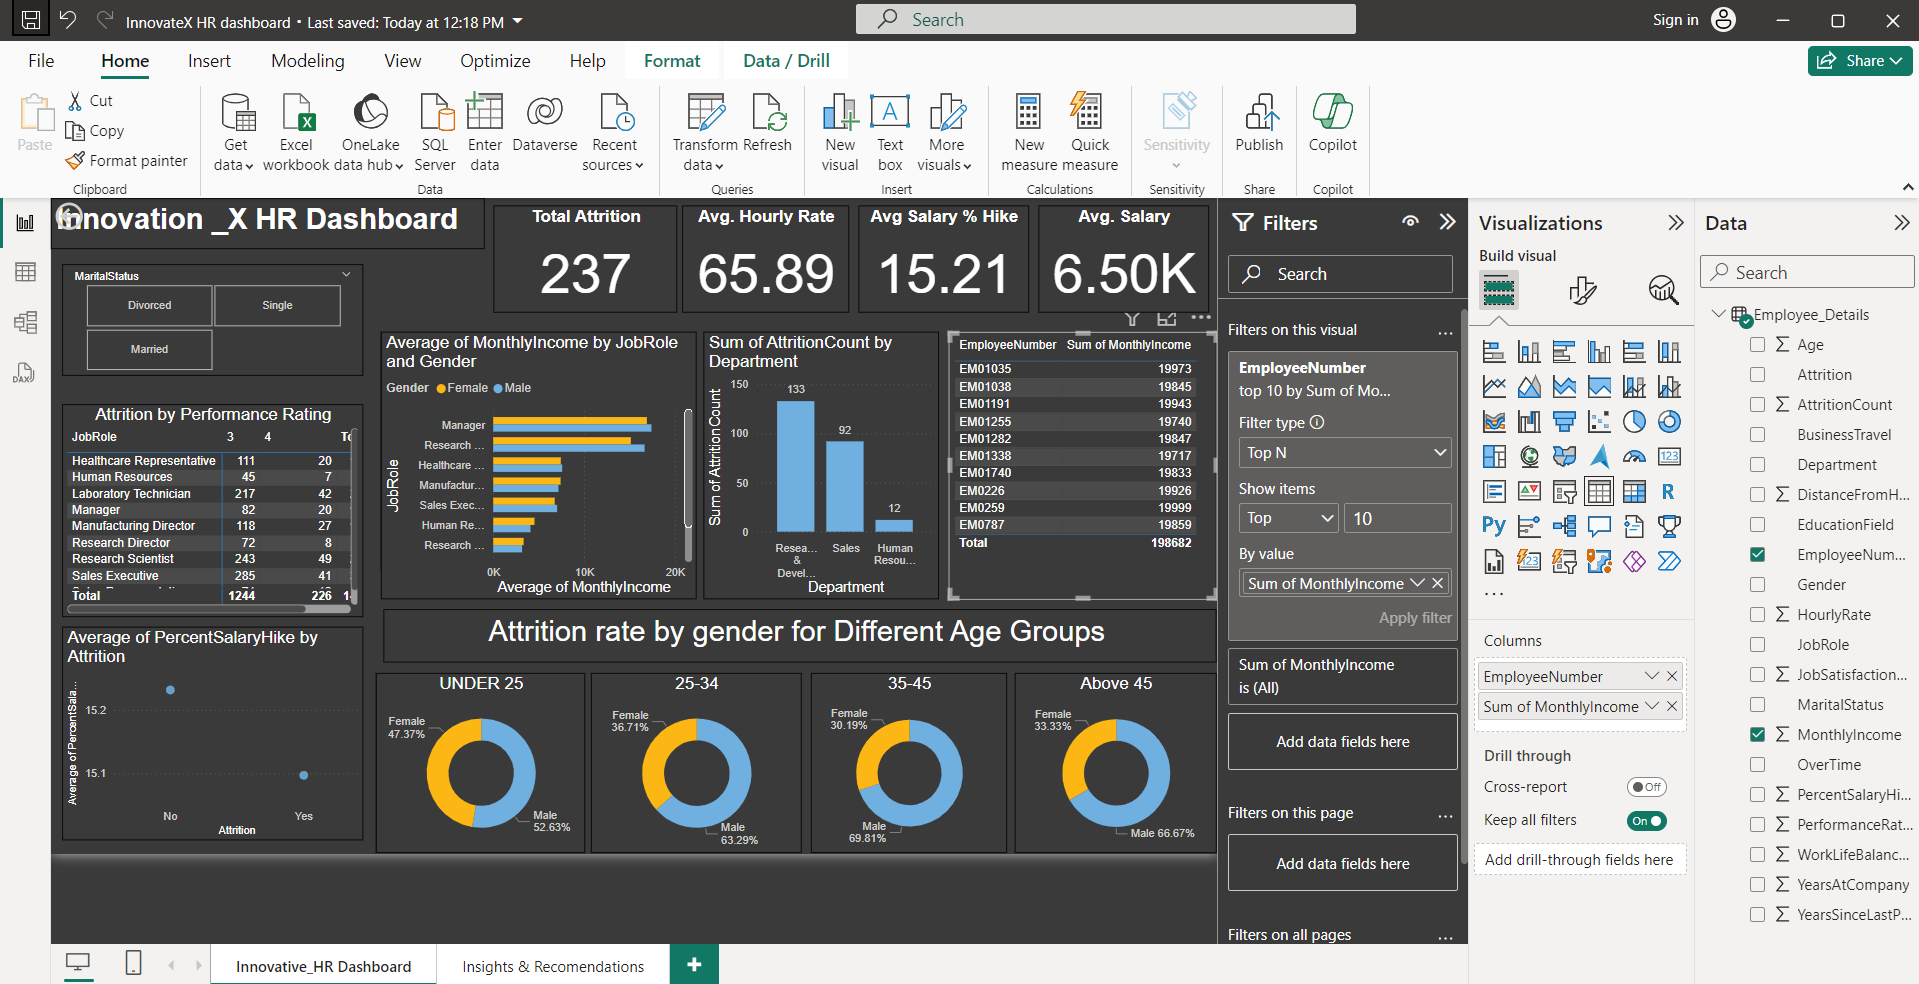

What the dashboard file says about the page in this screenshot:
{"tool":"powerbi","page":{"name":"Page 3","canvas":[1280,720],"ordinal":0},"visuals":[{"type":"textbox","box":[0,0,475.7,56.3],"z":0},{"type":"slicer","fields":{"Values":["Employee_Details.MaritalStatus"]},"box":[12.2,73,330.2,122.3],"z":1000},{"type":"pivotTable","title":"Attrition by Performance Rating","fields":{"Rows":["Employee_Details.JobRole"],"Columns":["Employee_Details.PerformanceRating"],"Values":["Employee_Details.EmployeeNumber"]},"box":[12.2,226.2,330.2,233.6],"z":2000},{"type":"scatterChart","fields":{"X":["Employee_Details.Attrition"],"Y":["Employee_Details.PercentSalaryHike"]},"box":[12,470,330,234],"z":3000},{"type":"actionButton","box":[0,0,100,40],"z":4000},{"type":"clusteredBarChart","fields":{"Category":["Employee_Details.JobRole"],"Series":["Employee_Details.Gender"],"Y":["Employee_Details.MonthlyIncome"]},"box":[362,146.7,346.1,293.5],"z":5000},{"type":"clusteredColumnChart","fields":{"Category":["Employee_Details.Department"],"Y":["Employee_Details.AttritionCount"]},"box":[716.6,146.7,258,293.5],"z":6000},{"type":"tableEx","fields":{"Values":["Employee_Details.EmployeeNumber","Employee_Details.MonthlyIncome"]},"box":[985.6,146.7,294.7,293.5],"z":7000},{"type":"textbox","box":[365.6,451.2,914.7,58.7],"z":8000},{"type":"donutChart","title":"UNDER 25","fields":{"Y":["Employee_Details.AttritionCount"],"Category":["Employee_Details.Gender"]},"box":[357.3,521.9,229.8,197.9],"z":9000},{"type":"donutChart","title":"25-34","fields":{"Y":["Employee_Details.AttritionCount"],"Category":["Employee_Details.Gender"]},"box":[592.3,521.9,231.1,197.9],"z":10000},{"type":"donutChart","title":"35-45","fields":{"Y":["Employee_Details.AttritionCount"],"Category":["Employee_Details.Gender"]},"box":[834,521.9,215.1,197.9],"z":11000},{"type":"donutChart","title":"Above 45","fields":{"Y":["Employee_Details.AttritionCount"],"Category":["Employee_Details.Gender"]},"box":[1058.5,521.9,221.8,197.9],"z":12000},{"type":"card","title":"Avg. Hourly Rate","fields":{"Values":["Employee_Details.HourlyRate"]},"box":[693.3,8.6,183.4,117.4],"z":13000},{"type":"card","title":"Total Attrition","fields":{"Values":["Employee_Details.AttritionCount"]},"box":[485.5,8.6,201.8,117.4],"z":14000},{"type":"card","title":"Avg Salary %  Hike ","fields":{"Values":["Employee_Details.PercentSalaryHike"]},"box":[886.6,8.6,187.1,117.4],"z":15000},{"type":"card","title":"Avg. Salary","fields":{"Values":["Employee_Details.MonthlyIncome"]},"box":[1084.7,8.6,187.1,117.4],"z":16000}]}

Visuals, with their boxes on the page's 1280x720 design canvas (x1, y1, x2, y2). These are canvas units, not pixel positions in the 1919x984 screenshot, which may show the page scaled, cropped or inside an application window:
textbox: pyautogui.locateOnScreen(0, 0, 476, 56)
slicer - Employee_Details.MaritalStatus: pyautogui.locateOnScreen(12, 73, 342, 195)
"Attrition by Performance Rating" pivotTable: pyautogui.locateOnScreen(12, 226, 342, 460)
scatterChart - Employee_Details.Attrition x Employee_Details.PercentSalaryHike: pyautogui.locateOnScreen(12, 470, 342, 704)
actionButton: pyautogui.locateOnScreen(0, 0, 100, 40)
clusteredBarChart - Employee_Details.JobRole x Employee_Details.Gender: pyautogui.locateOnScreen(362, 147, 708, 440)
clusteredColumnChart - Employee_Details.Department x Employee_Details.AttritionCount: pyautogui.locateOnScreen(717, 147, 975, 440)
tableEx - Employee_Details.EmployeeNumber x Employee_Details.MonthlyIncome: pyautogui.locateOnScreen(986, 147, 1280, 440)
textbox: pyautogui.locateOnScreen(366, 451, 1280, 510)
"UNDER 25" donutChart: pyautogui.locateOnScreen(357, 522, 587, 720)
"25-34" donutChart: pyautogui.locateOnScreen(592, 522, 823, 720)
"35-45" donutChart: pyautogui.locateOnScreen(834, 522, 1049, 720)
"Above 45" donutChart: pyautogui.locateOnScreen(1058, 522, 1280, 720)
"Avg. Hourly Rate" card: pyautogui.locateOnScreen(693, 9, 877, 126)
"Total Attrition" card: pyautogui.locateOnScreen(486, 9, 687, 126)
"Avg Salary %  Hike " card: pyautogui.locateOnScreen(887, 9, 1074, 126)
"Avg. Salary" card: pyautogui.locateOnScreen(1085, 9, 1272, 126)
